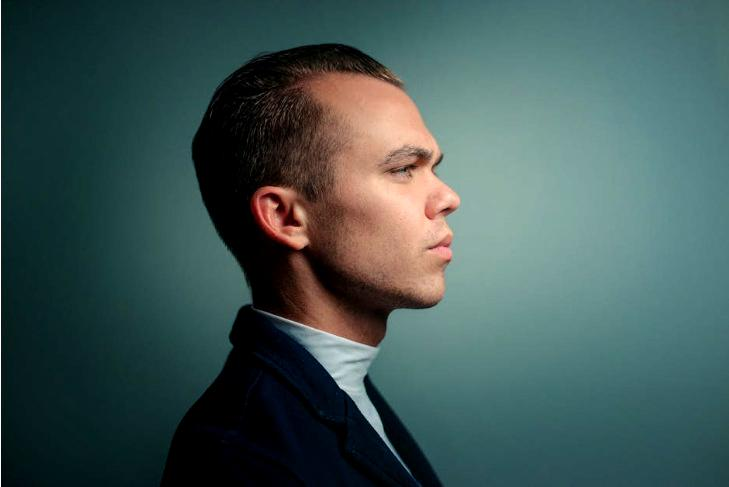face: (326, 77, 463, 312)
